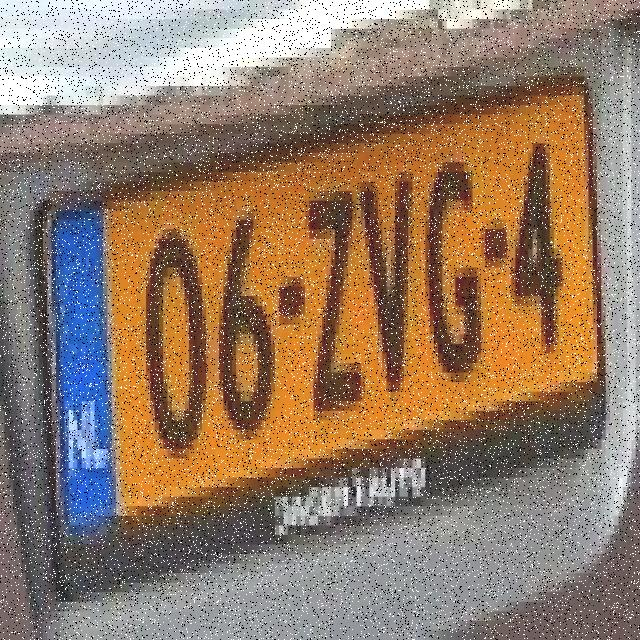licenseplate: (38, 80, 608, 552)
